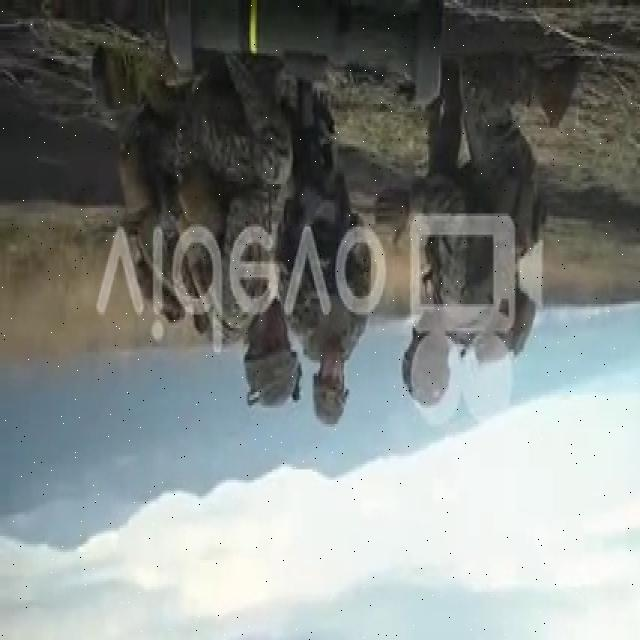bazooka: (165, 1, 450, 81)
